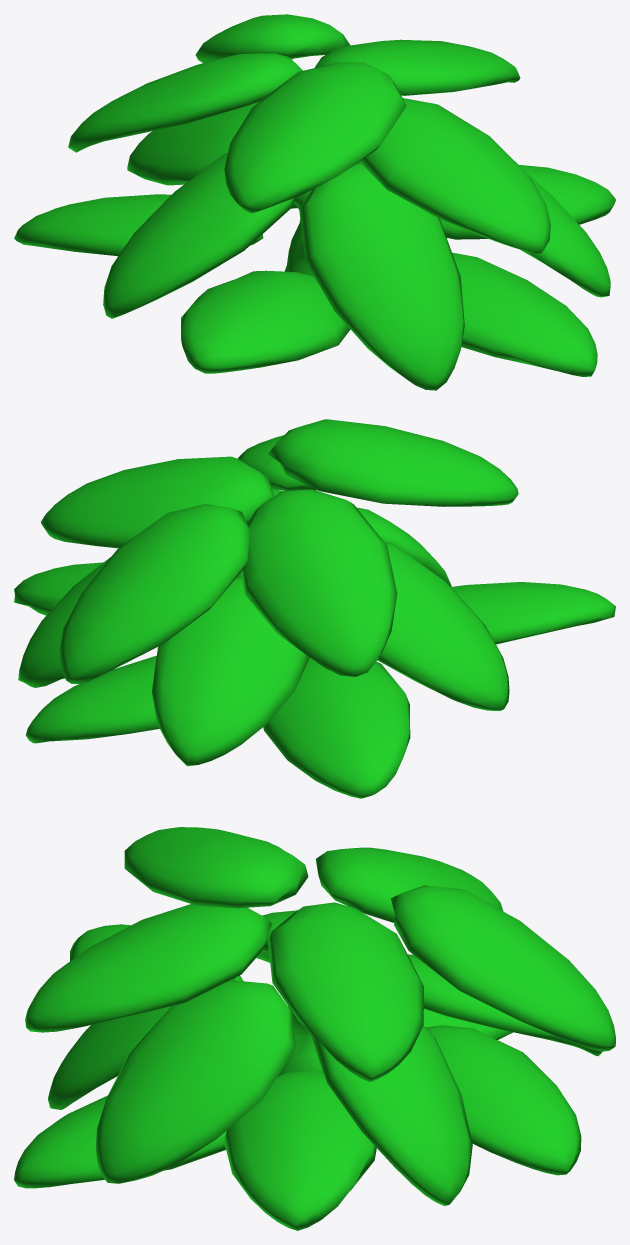
The model's file is bush2.FBX.
3 renders of one model, top to bottom at view 1: azimuth 30°, elevation 25°; view 2: azimuth 150°, elevation 25°; view 3: azimuth 270°, elevation 25°, orthographic. The views are drawn at different scales.
Parts seen in each view (by area): view 1: Ground_Plant; view 2: Ground_Plant; view 3: Ground_Plant.
Boxes of the visible parts, x1=… form: Ground_Plant: x1=14, y1=14, x2=615, y2=390; Ground_Plant: x1=14, y1=419, x2=615, y2=798; Ground_Plant: x1=14, y1=827, x2=615, y2=1230.
Bounding box in the file's own units: 1.82 × 0.8673 × 1.78.
